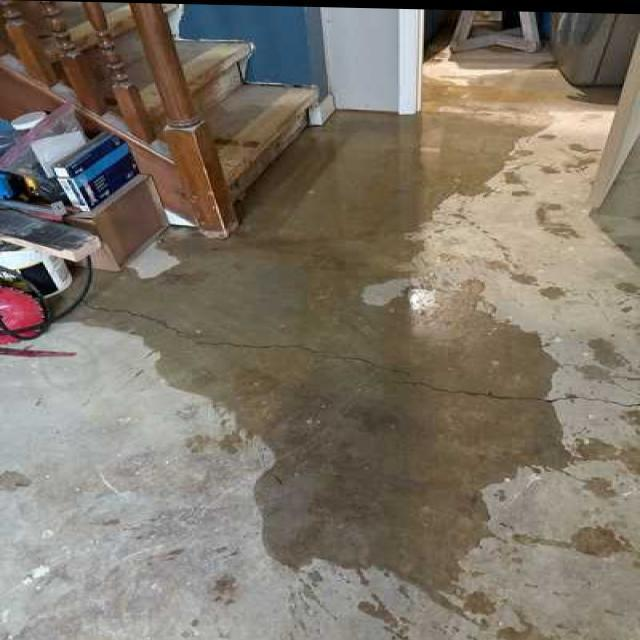water accumulation: (29, 65, 622, 604)
